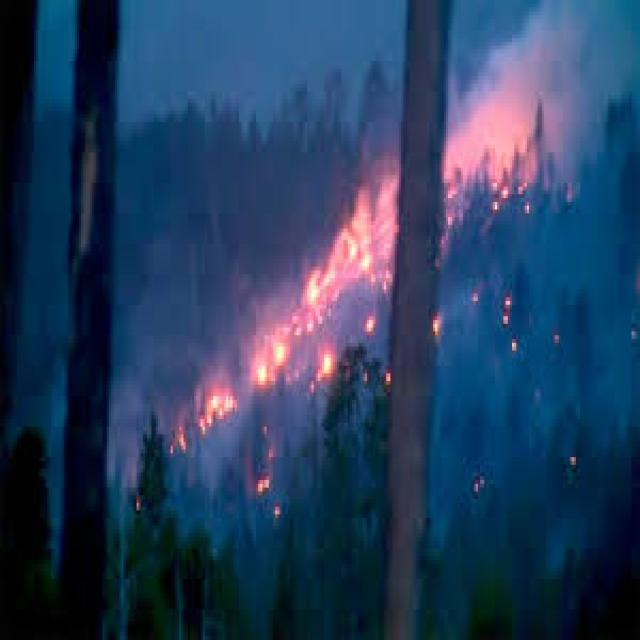Fire: (444, 94, 526, 200), (176, 386, 235, 460), (300, 261, 342, 323), (350, 214, 385, 268), (256, 324, 288, 382), (265, 478, 282, 512), (320, 346, 338, 368)
Smoke: (105, 0, 378, 180), (475, 0, 579, 158), (449, 314, 564, 428)
